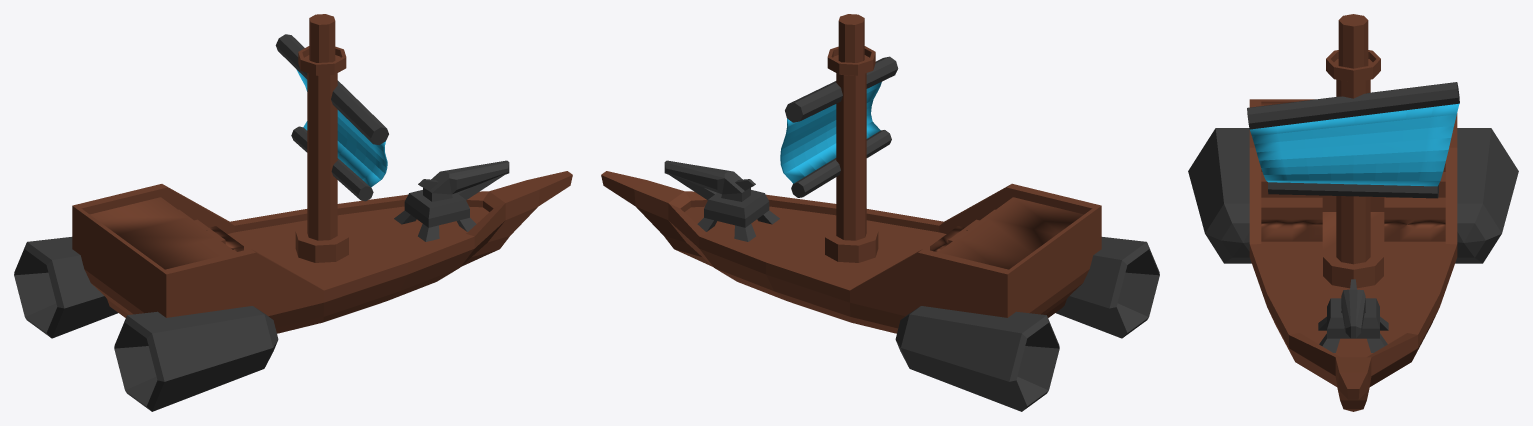
File: Player.fbx
3 renders of one model, left to right at view 1: azimuth 30°, elevation 25°; view 2: azimuth 150°, elevation 25°; view 3: azimuth 270°, elevation 25°, orthographic. The views are drawn at different scales.
Parts seen in each view (by area): view 1: Cube, Sphere, Cylinder, Sphere.001, Cube.001, Plane, Cylinder.001, Cylinder.002; view 2: Cube, Sphere.001, Cylinder, Sphere, Cube.001, Plane, Cylinder.001, Cylinder.002; view 3: Cube, Plane, Cylinder, Sphere, Sphere.001, Cylinder.001, Cube.001, Cylinder.002.
Boxes of the visible parts, x1,y1,x2,y2 form: Cube: [72, 171, 572, 333]; Sphere: [114, 306, 278, 411]; Cylinder: [295, 14, 348, 262]; Sphere.001: [14, 237, 117, 338]; Cube.001: [394, 160, 509, 241]; Plane: [296, 69, 387, 187]; Cylinder.001: [275, 34, 388, 145]; Cylinder.002: [291, 126, 373, 201]; Cube: [601, 171, 1101, 333]; Sphere.001: [895, 306, 1059, 411]; Cylinder: [825, 14, 878, 262]; Sphere: [1056, 237, 1159, 338]; Cube.001: [664, 160, 779, 241]; Plane: [780, 82, 881, 183]; Cylinder.001: [785, 56, 898, 122]; Cylinder.002: [791, 130, 891, 197]; Cube: [1249, 99, 1457, 411]; Plane: [1250, 103, 1459, 186]; Cylinder: [1323, 14, 1383, 288]; Sphere: [1188, 128, 1251, 263]; Sphere.001: [1455, 128, 1518, 263]; Cylinder.001: [1247, 82, 1459, 129]; Cube.001: [1318, 279, 1388, 352]; Cylinder.002: [1268, 182, 1438, 198].
Size of the model in its own units: 1396 by 798 by 750.
